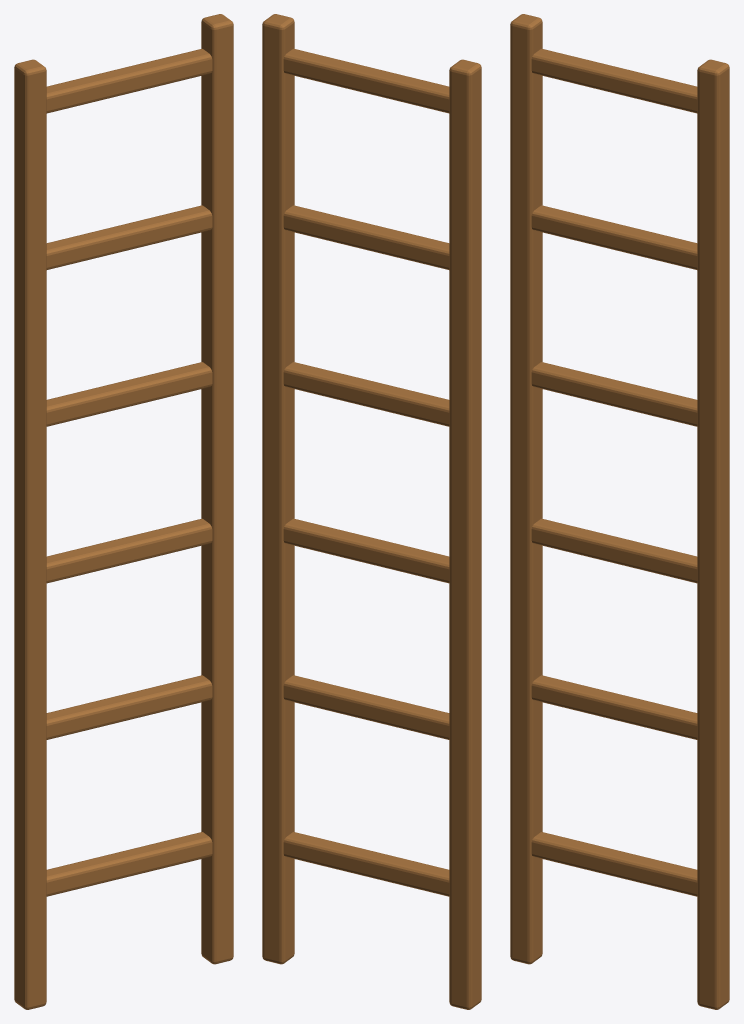
File: ladder.glb
The picture shows the model from 3 angles, left to right: view 1: azimuth 30°, elevation 25°; view 2: azimuth 150°, elevation 25°; view 3: azimuth 330°, elevation 25°; orthographic projection.
Parts seen in each view (by area): view 1: ladder; view 2: ladder; view 3: ladder.
Part boxes in pixels (x1,y1,x2,y2): ladder: [14, 14, 233, 1009]; ladder: [262, 14, 481, 1009]; ladder: [510, 14, 729, 1009].
Bounding box in the file's own units: 0.56 × 2.4 × 0.06.
